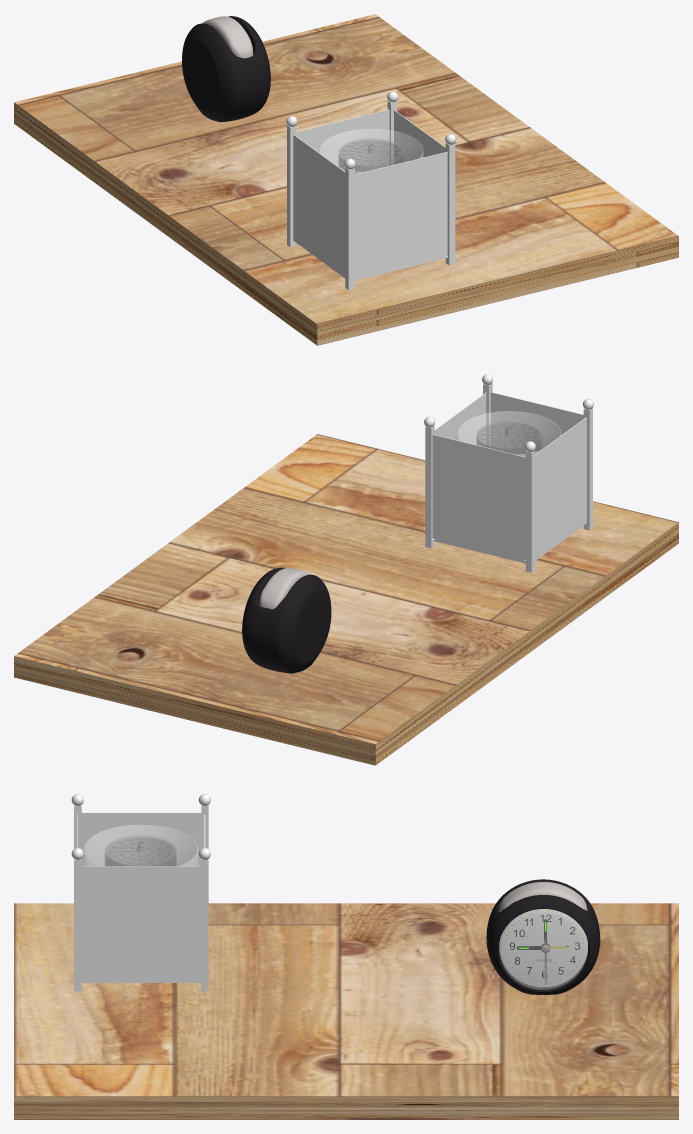
Rendered from clock6.glb.
3 renders of one model, top to bottom at view 1: azimuth 30°, elevation 25°; view 2: azimuth 150°, elevation 25°; view 3: azimuth 270°, elevation 25°, orthographic. The views are drawn at different scales.
Parts seen in each view (by area): view 1: Table, Cube, box, Cylinder_rot, ML_cylCentral, ML_Montant.002, ML_Montant.001, Buton, ML_Montant.003; view 2: Table, Cube, box, Cylinder_rot, ML_cylCentral, ML_Montant.003, Buton, ML_Montant.004, ML_Montant.002; view 3: Table, Cube, glass, hours, box, Cylinder_rot, ML_cylCentral, Buton, ML_Montant.001, ML_Montant.004.
Boxes of the visible parts, bbox=[...] form: Table: bbox=[14, 14, 678, 345]; Cube: bbox=[293, 109, 447, 280]; box: bbox=[182, 16, 270, 122]; Cylinder_rot: bbox=[319, 128, 423, 173]; ML_cylCentral: bbox=[338, 138, 404, 173]; ML_Montant.002: bbox=[345, 167, 354, 289]; ML_Montant.001: bbox=[445, 143, 455, 265]; Buton: bbox=[203, 16, 253, 58]; ML_Montant.003: bbox=[287, 125, 296, 247]; Table: bbox=[14, 434, 678, 765]; Cube: bbox=[432, 392, 586, 563]; box: bbox=[242, 567, 331, 673]; Cylinder_rot: bbox=[457, 411, 560, 456]; ML_cylCentral: bbox=[476, 421, 541, 456]; ML_Montant.003: bbox=[525, 450, 534, 572]; Buton: bbox=[259, 568, 310, 609]; ML_Montant.004: bbox=[425, 425, 434, 548]; ML_Montant.002: bbox=[583, 408, 592, 530]; Table: bbox=[14, 903, 678, 1119]; Cube: bbox=[77, 812, 205, 982]; glass: bbox=[499, 909, 587, 989]; hours: bbox=[499, 909, 587, 986]; box: bbox=[486, 879, 600, 994]; Cylinder_rot: bbox=[84, 824, 197, 866]; ML_cylCentral: bbox=[105, 835, 176, 866]; Buton: bbox=[499, 882, 587, 912]; ML_Montant.001: bbox=[74, 859, 81, 991]; ML_Montant.004: bbox=[201, 859, 208, 991].
Bounding box in the file's own units: 7.99 × 3.18 × 11.62.
14 materials, 2 textured.
